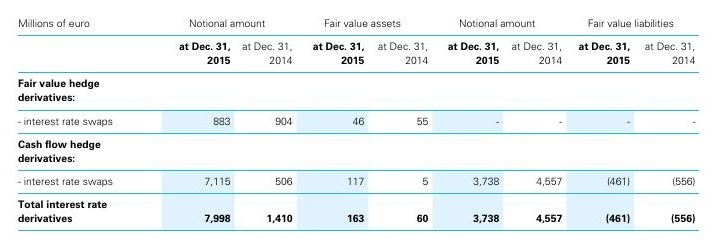table: (0, 0, 717, 247)
